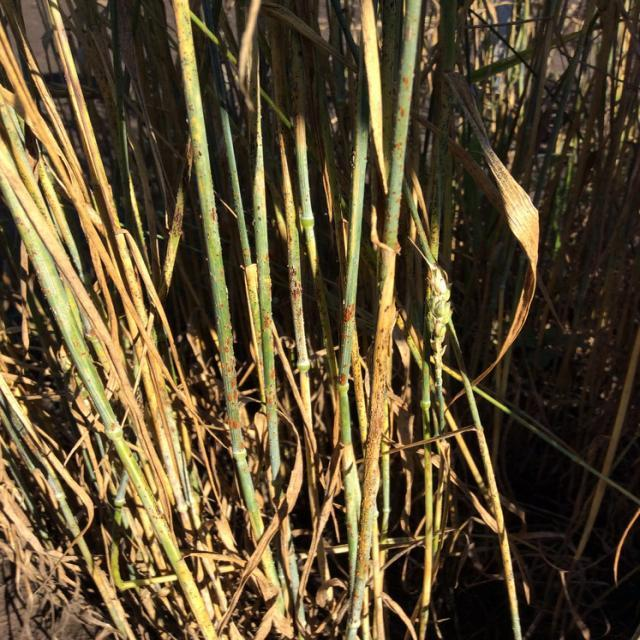Stem Rust: (88, 225, 440, 634)
